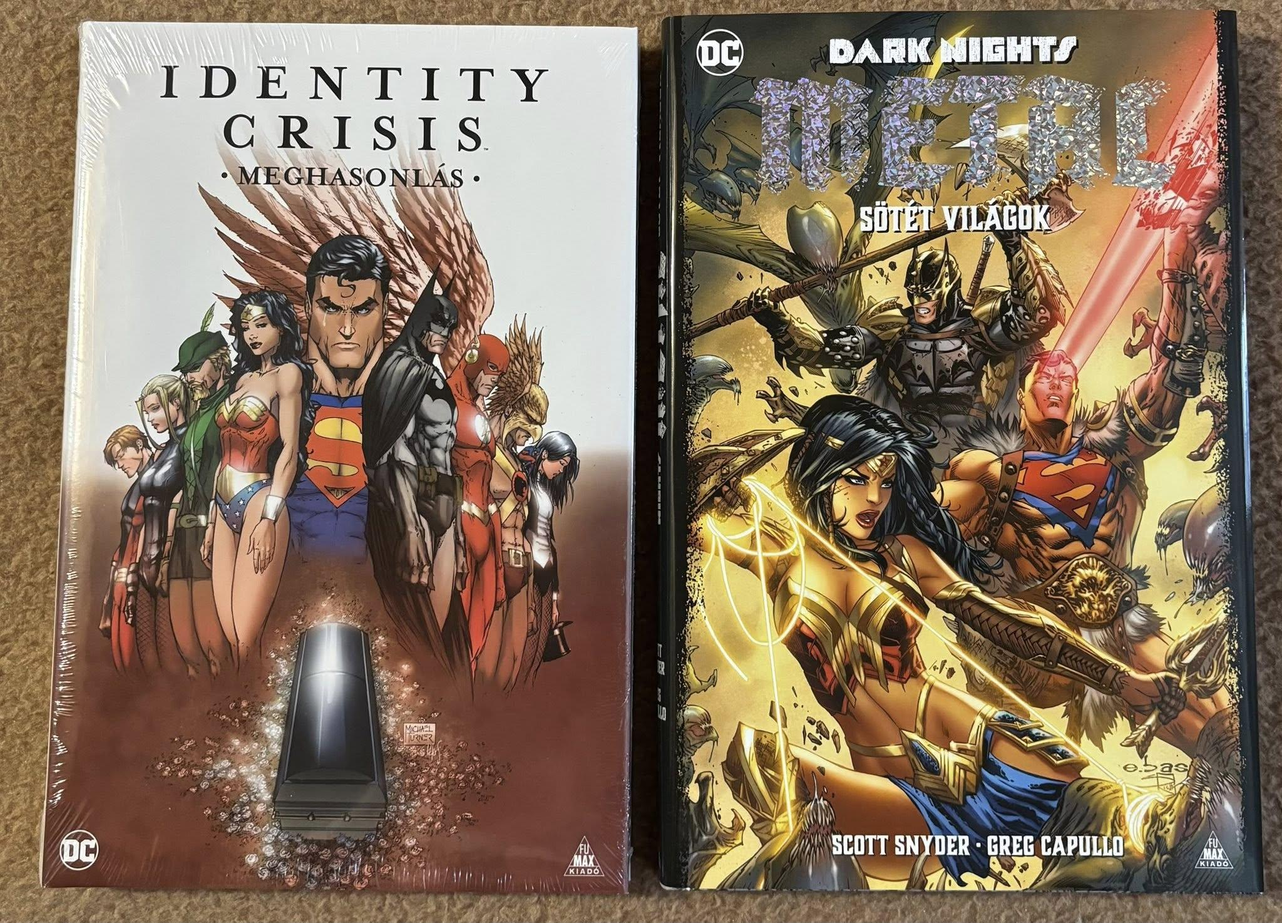comic: (651, 9, 1261, 898), (43, 22, 638, 893)
